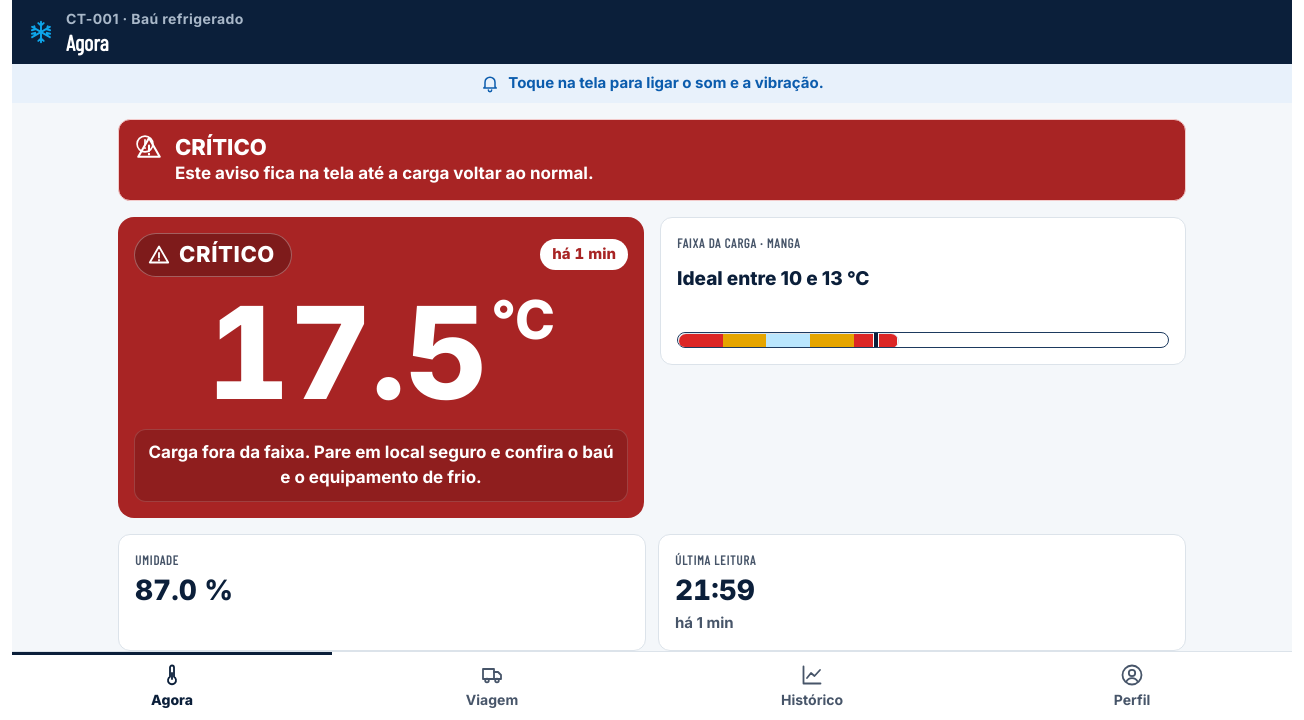
Motorista › recarregou com os alertas ligados: continua ligado, dica até o primeiro toque
Expected: the message with id "dicaSom" reads "Toque na tela para ligar o som e a vibração.", x1=508 y1=73 x2=824 y2=92
Click the element with id "tempMotorista": (381, 353) x1=207 y1=289 x2=555 y2=417
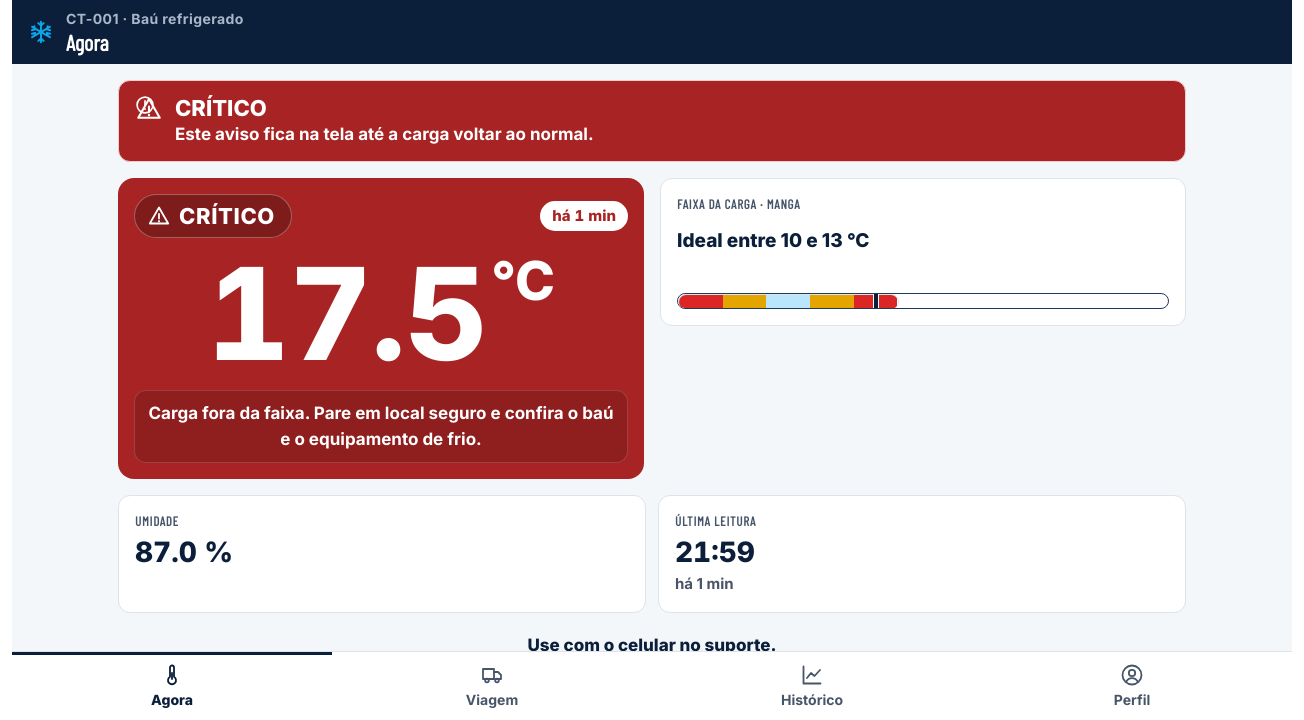
Expected: the message with id "dicaSom" is gone
